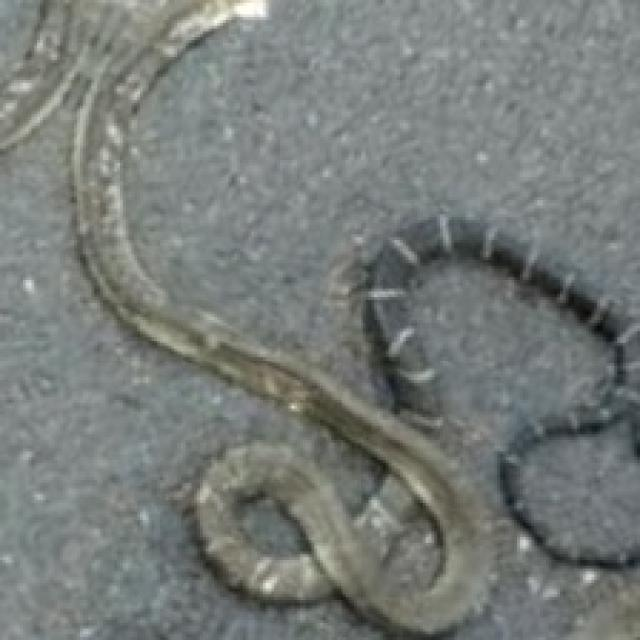king cobra: (0, 86, 386, 637), (126, 0, 637, 343), (451, 534, 614, 637)
